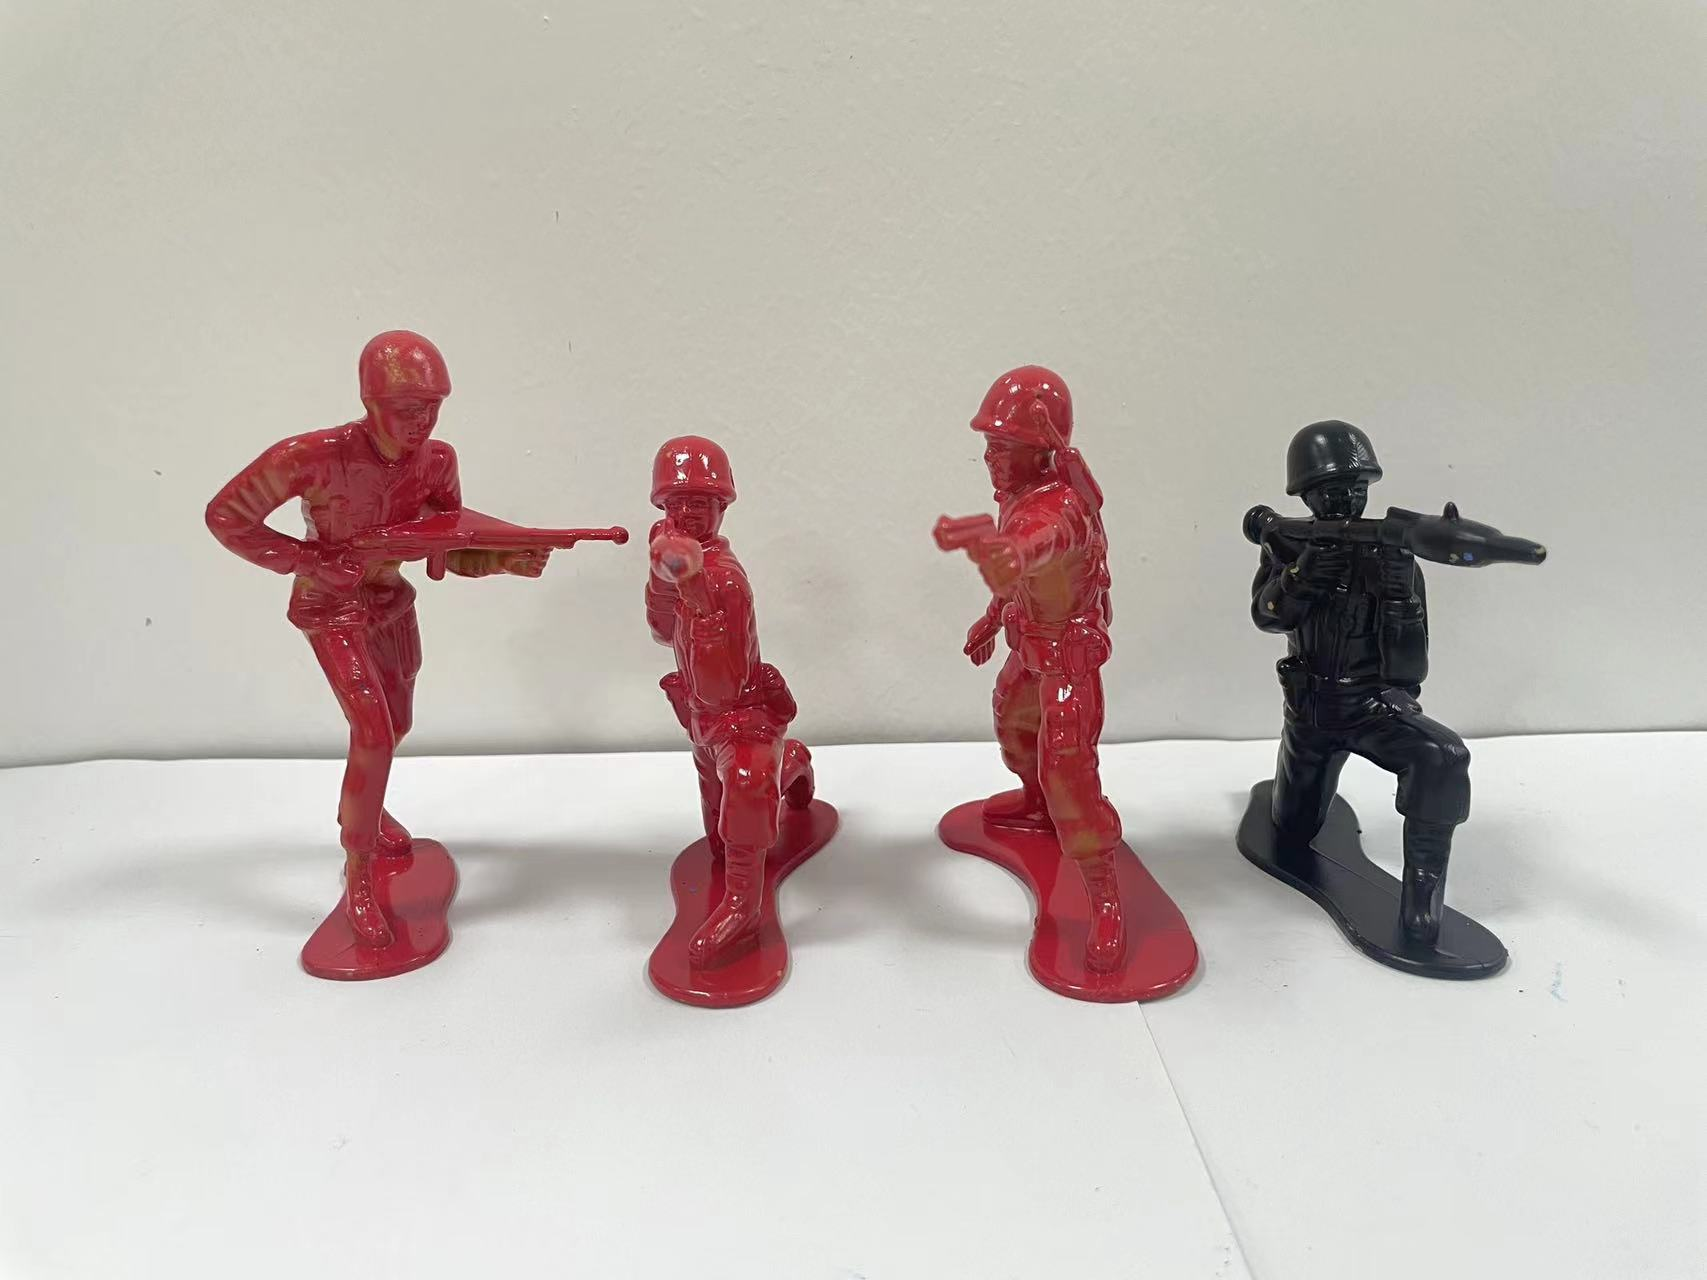black: (1233, 389, 1605, 1038)
red: (163, 321, 589, 1055), (907, 282, 1218, 1116), (595, 389, 892, 1050)
